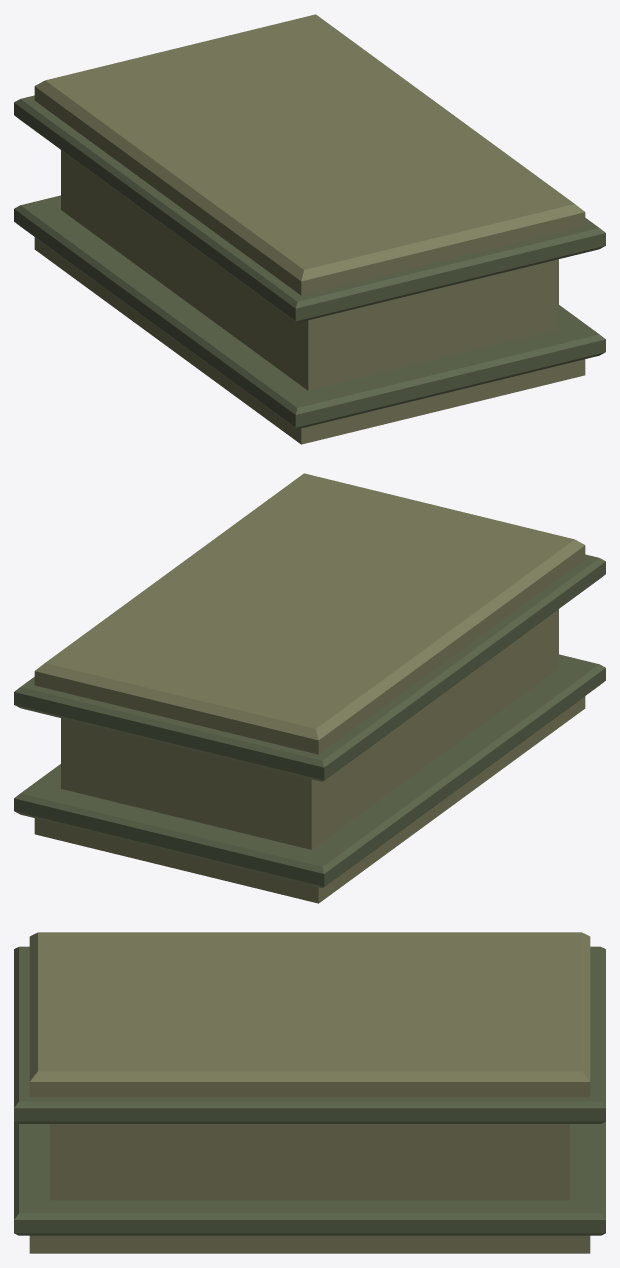
Rendered from altar02.fbx.
3 views of the same model, one above another, from view 1: azimuth 30°, elevation 25°; view 2: azimuth 150°, elevation 25°; view 3: azimuth 270°, elevation 25° (orthographic). The views are drawn at different scales.
Visible parts, largest first — view 1: altar02; view 2: altar02; view 3: altar02.
Boxes of the visible parts, bbox=[...] form: altar02: bbox=[14, 14, 605, 444]; altar02: bbox=[14, 473, 605, 903]; altar02: bbox=[14, 932, 605, 1253].
Size of the model in its own units: 1.95 by 1.02 by 3.07.
